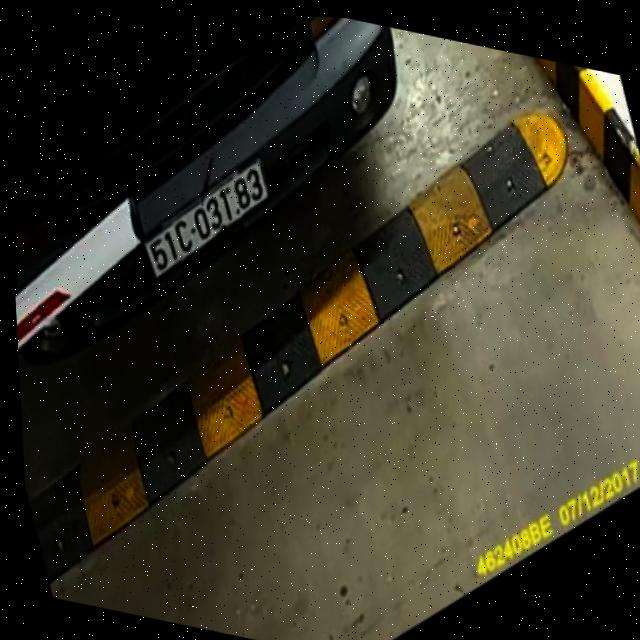car: (0, 0, 430, 449)
plate: (132, 138, 282, 303)
